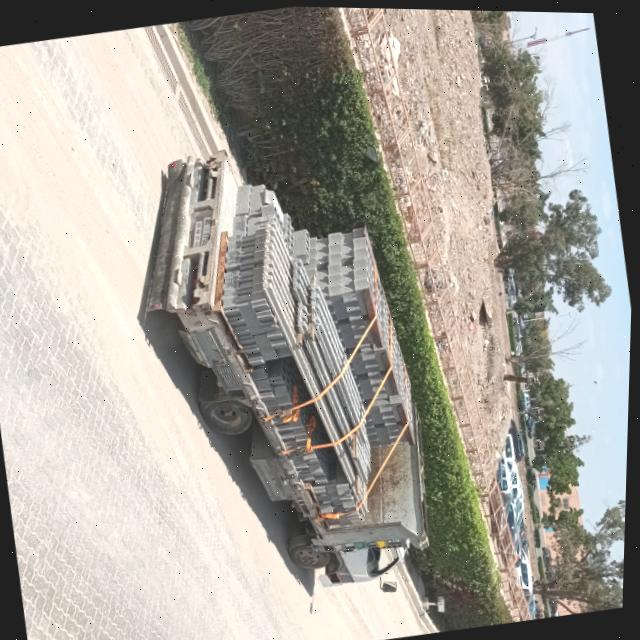bricks: (317, 228, 416, 447), (222, 185, 298, 370)
